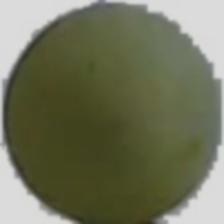grapes: (35, 28, 214, 168)
